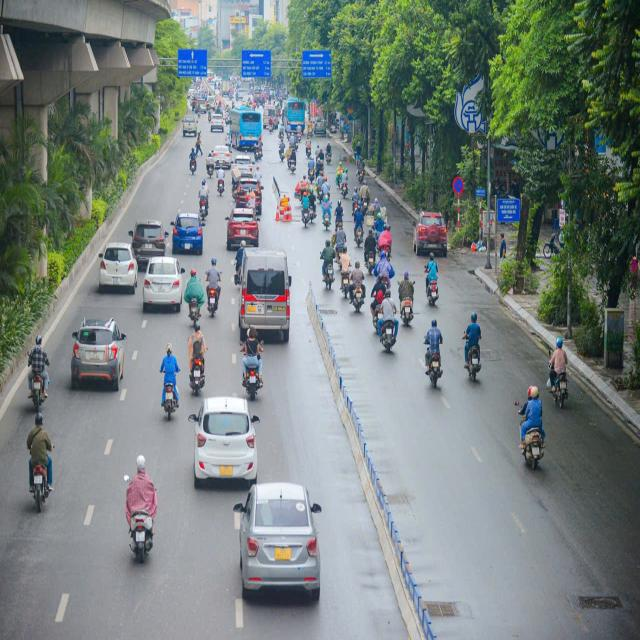Bus: (231, 108, 261, 150), (283, 98, 306, 135)
Truck: (263, 104, 278, 131)
car: (234, 487, 322, 603), (193, 398, 255, 486), (72, 312, 128, 387), (145, 255, 185, 313), (96, 244, 136, 295), (130, 220, 164, 265), (414, 211, 449, 254), (172, 210, 204, 254), (223, 207, 260, 244), (236, 174, 264, 212), (233, 155, 252, 177), (216, 145, 230, 167), (183, 116, 197, 136), (212, 115, 222, 132), (315, 119, 326, 134), (192, 96, 204, 108), (196, 100, 206, 113), (209, 96, 215, 108)
motobyte: (124, 459, 152, 559), (30, 426, 49, 506), (158, 353, 180, 420), (30, 340, 48, 410), (524, 397, 541, 468), (243, 333, 261, 396), (189, 332, 206, 395), (466, 318, 480, 379), (428, 324, 441, 380), (555, 346, 565, 406), (190, 274, 200, 326), (428, 254, 438, 304), (374, 281, 385, 326), (401, 278, 412, 320), (383, 296, 392, 347), (208, 266, 218, 310), (324, 243, 334, 286), (354, 264, 362, 308), (368, 237, 377, 272), (199, 180, 207, 217), (341, 254, 348, 294), (336, 228, 344, 262), (300, 196, 308, 228), (336, 200, 344, 228), (381, 266, 389, 294), (355, 213, 362, 245), (382, 232, 389, 261), (310, 191, 316, 223), (323, 197, 329, 228), (290, 149, 296, 177), (218, 167, 224, 195), (317, 173, 323, 200), (323, 180, 330, 203), (373, 196, 379, 222), (352, 189, 358, 213), (377, 217, 383, 240), (208, 152, 214, 175), (278, 142, 285, 161), (359, 160, 365, 182), (362, 185, 367, 210), (190, 150, 195, 174), (253, 142, 259, 161), (317, 148, 324, 164), (342, 174, 347, 196), (258, 136, 262, 159), (337, 166, 342, 184), (308, 123, 314, 138), (279, 124, 284, 141), (327, 144, 331, 165), (309, 160, 313, 180), (318, 160, 322, 178), (307, 141, 311, 159), (225, 110, 229, 126), (286, 123, 290, 138), (197, 105, 201, 119), (208, 110, 212, 123), (298, 126, 301, 141)
